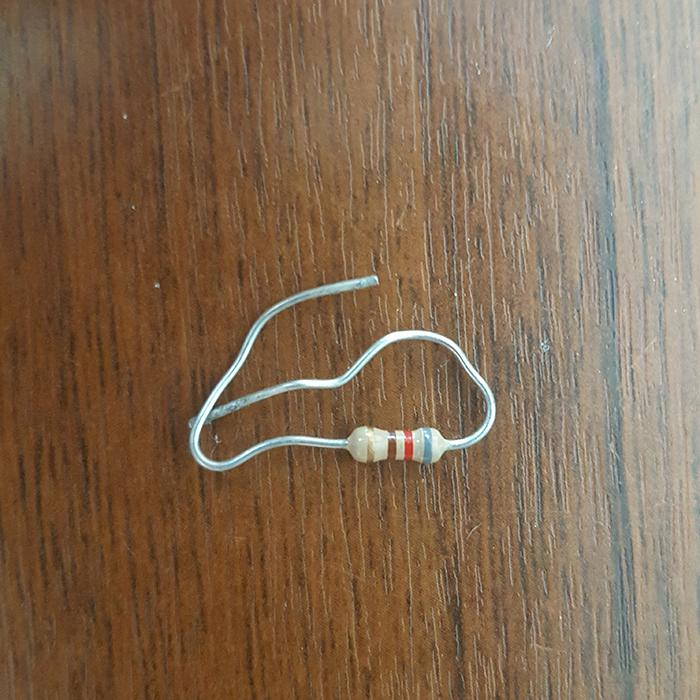resistor: (347, 424, 449, 464)
